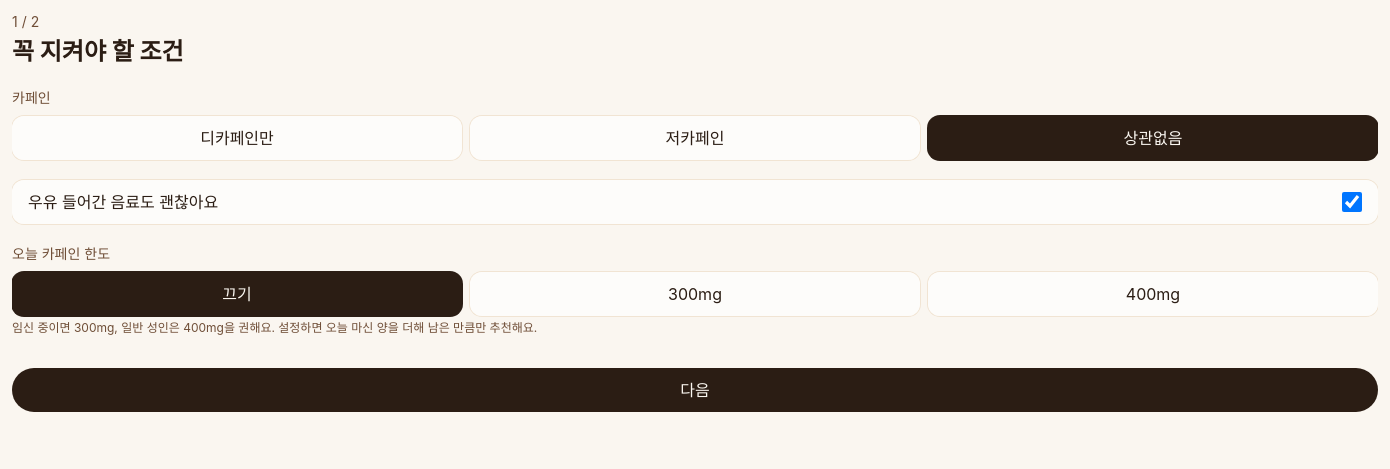
Scenario: onboarding flow › redo skips the samples step
What coordinates should you click on to do the following:
click the button "다음"
I would click on:
 (695, 390)
Its box is x1=12 y1=368 x2=1378 y2=412.
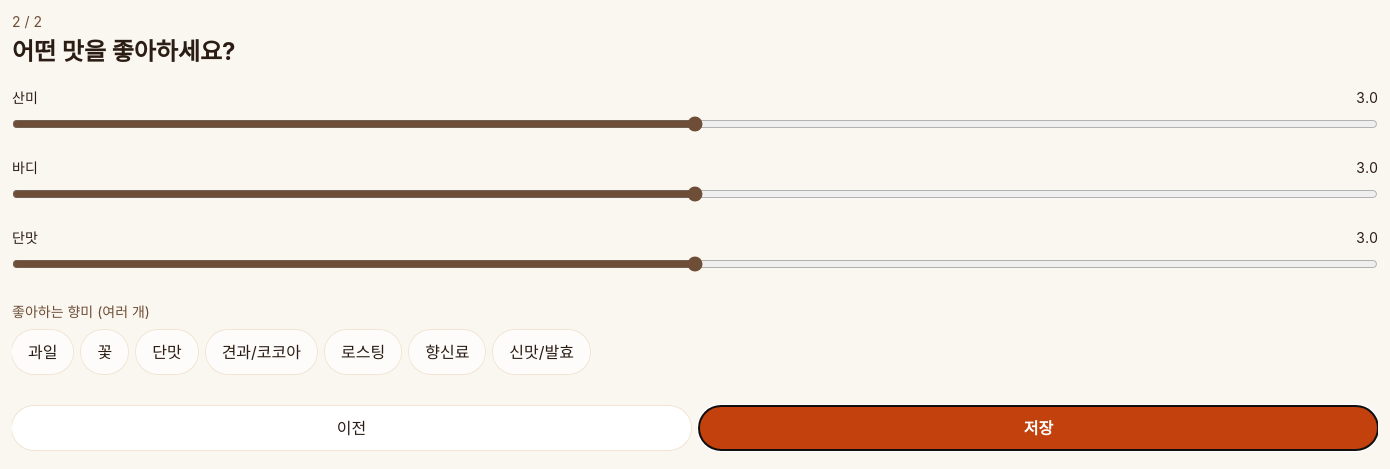
Now the button "저장" is shown, box x1=699 y1=406 x2=1378 y2=450
